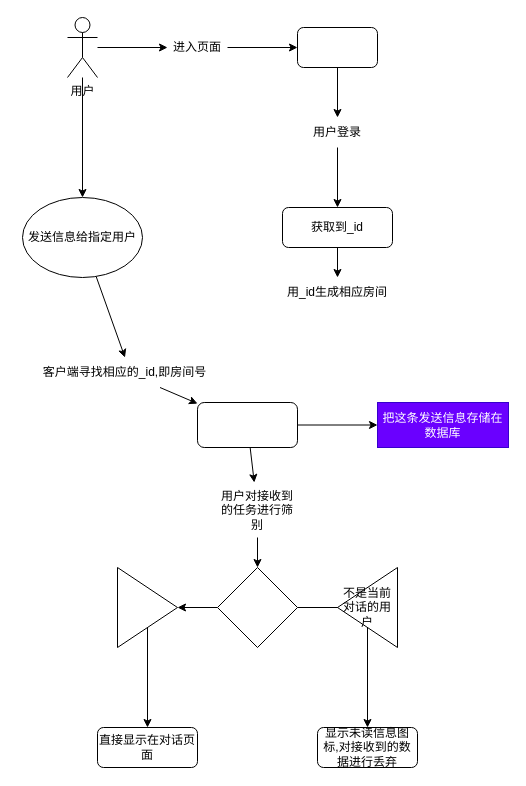
Image size: 526x786. Some labels were removed from this diagram. Each missing label, with the centre of its shape:
建立连接: the point at 337,47
往指点房间的用户发送内容: the point at 247,425
是当前对话 的用户: the point at 147,607
